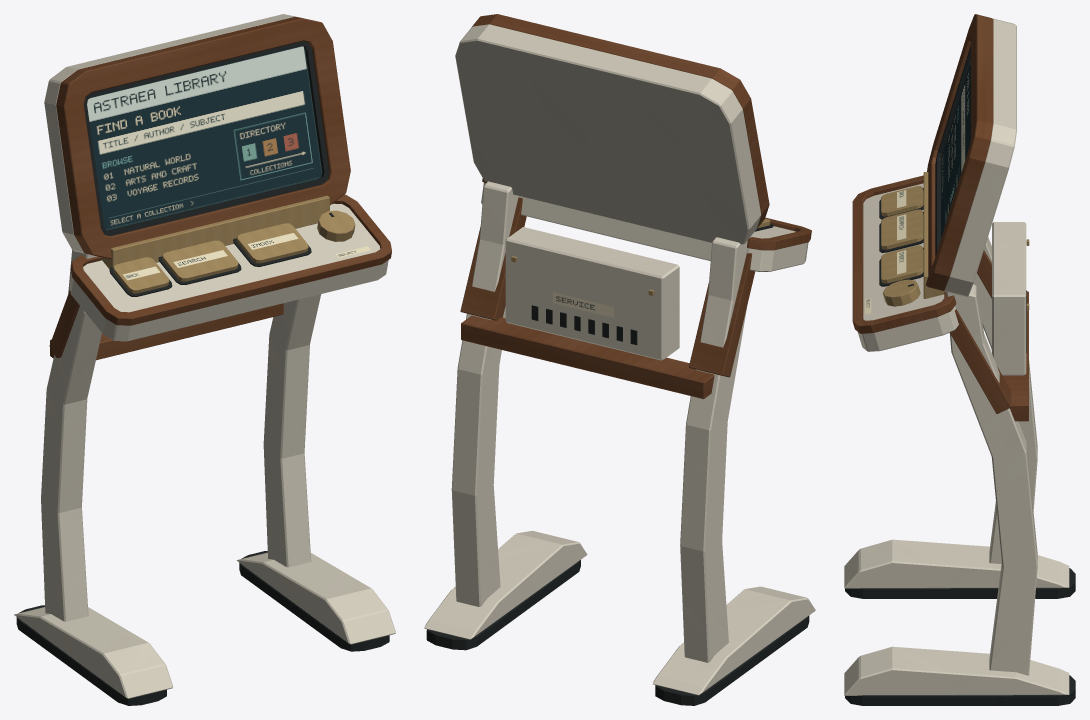
The model's file is AST-LIB-010.glb.
3 renders of one model, left to right at view 1: azimuth 30°, elevation 25°; view 2: azimuth 150°, elevation 25°; view 3: azimuth 270°, elevation 25°, orthographic. The views are drawn at different scales.
Visible parts, largest first — view 1: AST-LIB-010_static_visual; view 2: AST-LIB-010_static_visual; view 3: AST-LIB-010_static_visual.
Boxes of the visible parts, box(x1,y1,x2,y2) form: AST-LIB-010_static_visual: box(14, 14, 395, 705); AST-LIB-010_static_visual: box(424, 14, 815, 705); AST-LIB-010_static_visual: box(844, 14, 1075, 705).
Size of the model in its own units: 0.722 by 1.41 by 0.5166.
Materials: 11 (11 with a texture image).
